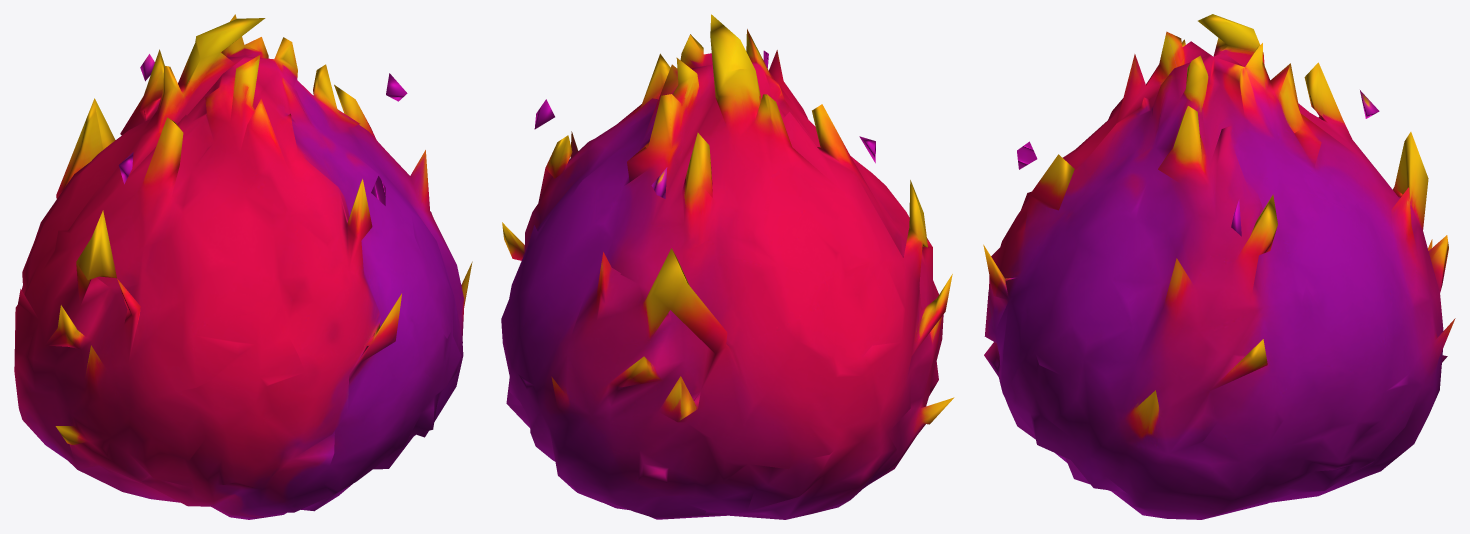
File: dragonfruit.glb
The picture shows the model from 3 angles, left to right: view 1: azimuth 30°, elevation 25°; view 2: azimuth 150°, elevation 25°; view 3: azimuth 270°, elevation 25°; orthographic projection.
Visible parts, largest first — view 1: tripo_node_ed11e3af-1e24-4d9b-ba07-18926fd6813d; view 2: tripo_node_ed11e3af-1e24-4d9b-ba07-18926fd6813d; view 3: tripo_node_ed11e3af-1e24-4d9b-ba07-18926fd6813d.
Boxes of the visible parts, bbox=[...] form: tripo_node_ed11e3af-1e24-4d9b-ba07-18926fd6813d: bbox=[14, 14, 472, 519]; tripo_node_ed11e3af-1e24-4d9b-ba07-18926fd6813d: bbox=[501, 14, 954, 519]; tripo_node_ed11e3af-1e24-4d9b-ba07-18926fd6813d: bbox=[983, 14, 1455, 519].
Bounding box in the file's own units: 0.9418 × 1 × 0.9199.
1 material, 1 textured.
